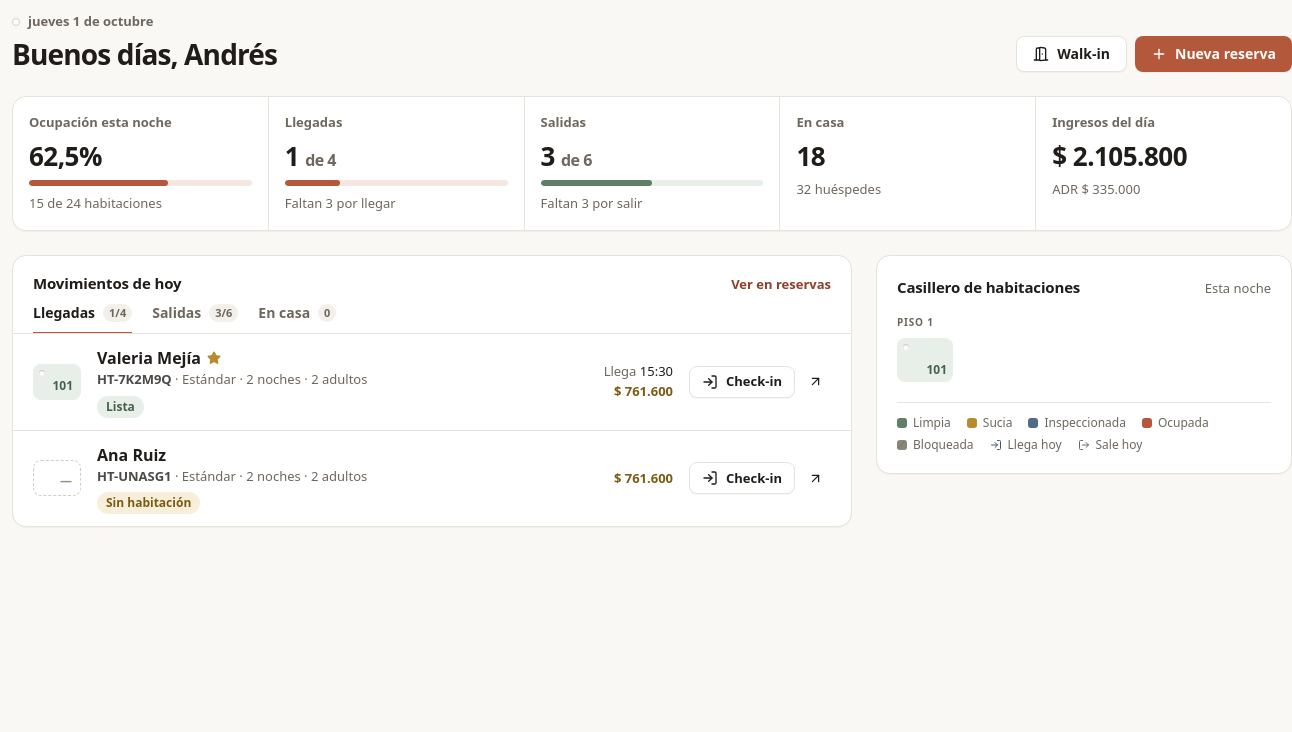
Test: TodayPage › lists the arrivals with what each one needs, and the other lists behind tabs
Check: the text "Lista" is shown, box [97,396,144,418]
Check: the picture named "Huésped VIP" is shown, box [207,351,221,365]
Click the tab "Salidas 3/6" at (195, 314), box [152,294,238,334]
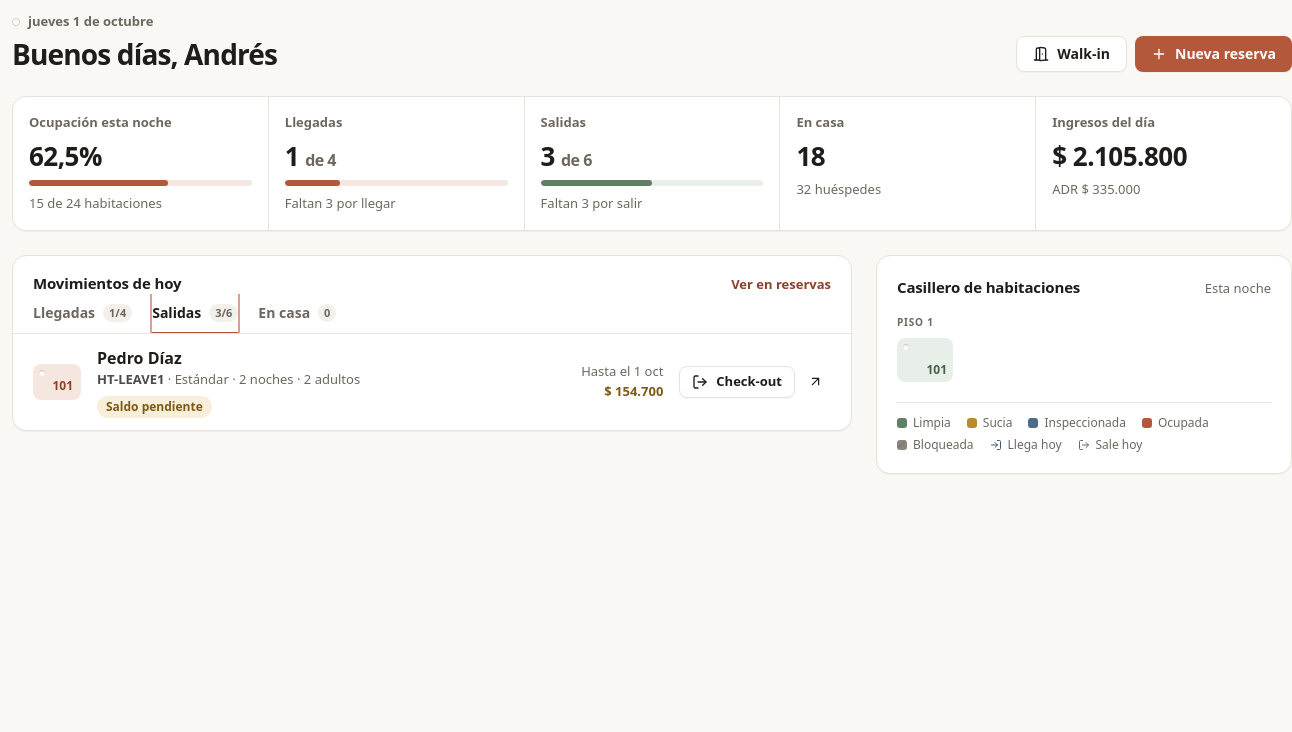
Check: the text "Saldo pendiente" is shown, box [97,396,212,418]
Check: the button "Check-out" is shown, box [679,366,795,398]
